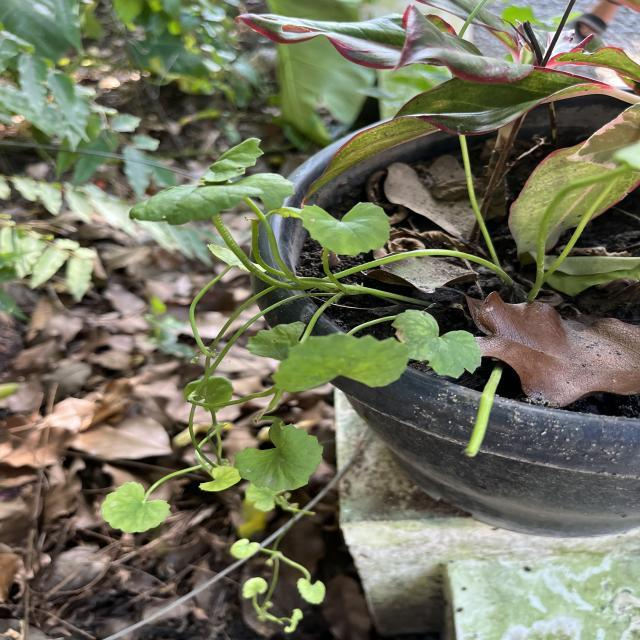Centella asiatica: (232, 420, 326, 492), (100, 480, 172, 534)
